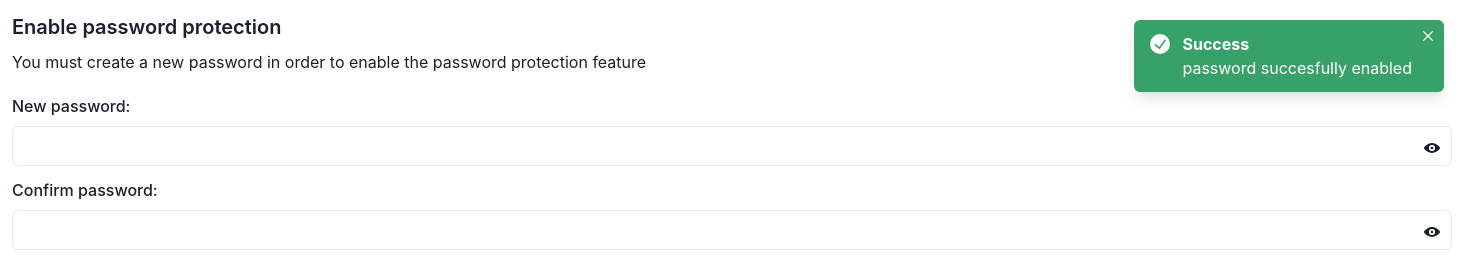
EnablePasswordForm › should handle submission errors
The image size is (1464, 267).
Type "supersecretpassword" into the password field labelled "New password:" at (732, 146), box [12,126,1452,166]
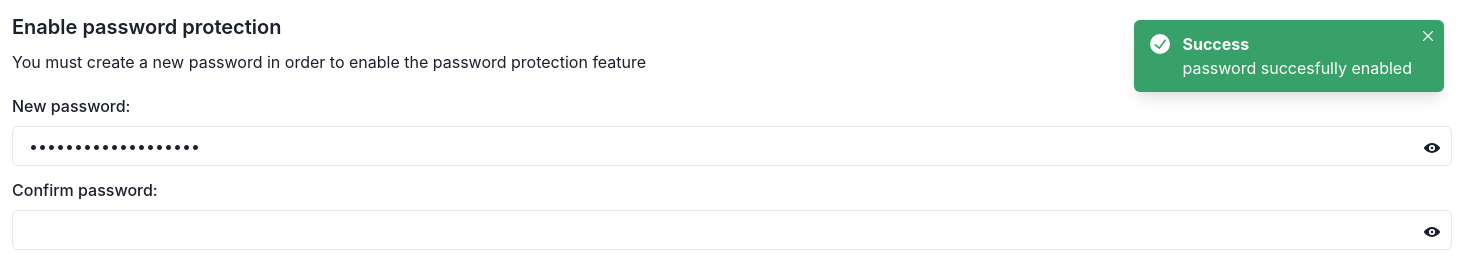
Type "supersecretpassword" into the password field labelled "Confirm password:" at (732, 230), box [12,210,1452,250]
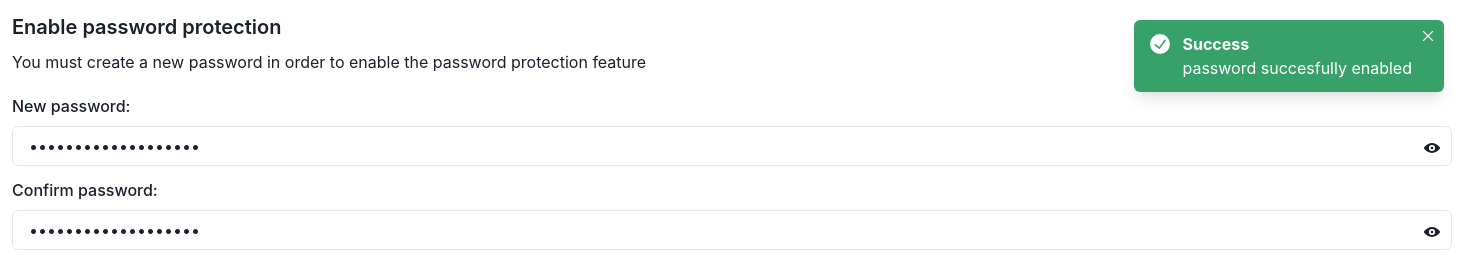
Submit the form, box [12,94,1452,250]
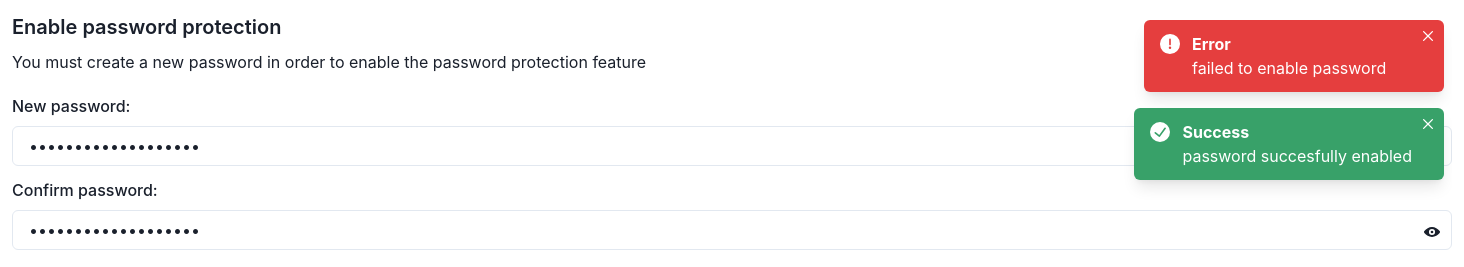
expect the 1st text "failed to enable password" is shown: met, box [1192,56,1412,80]
